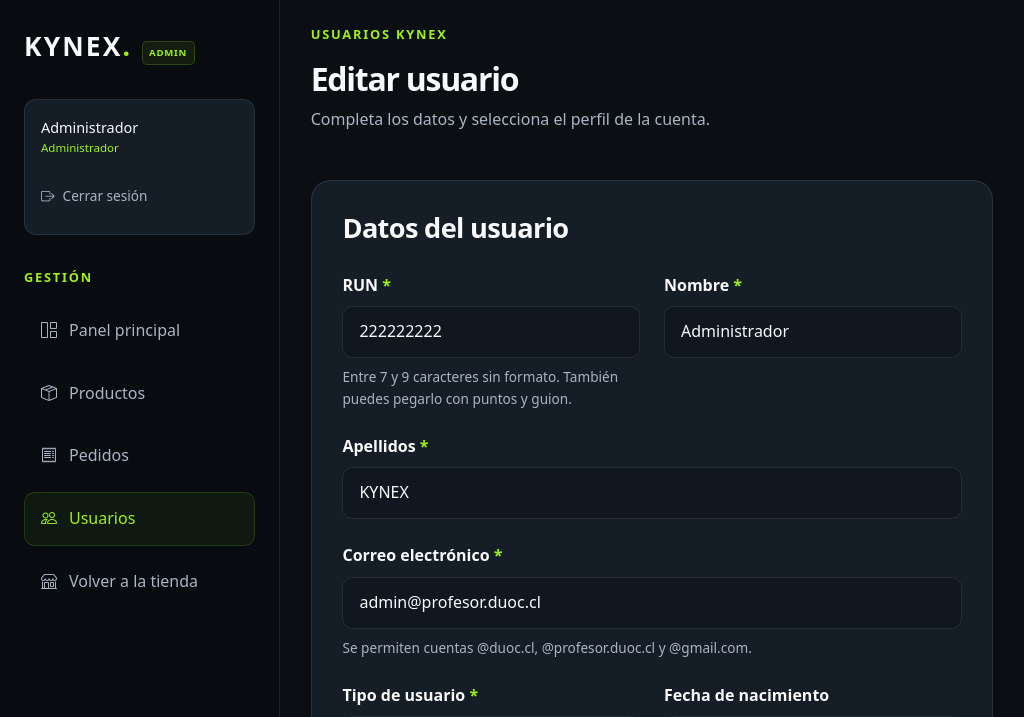
Test: Gestión de usuarios integrada › actualiza el perfil conectado al modificar su correo
Replace the text in the field labelled "Correo electrónico" with "admin.actualizado@duoc.cl" at {"x": 652, "y": 603}, box left=342, top=577, right=962, bottom=629
(page scrolled)
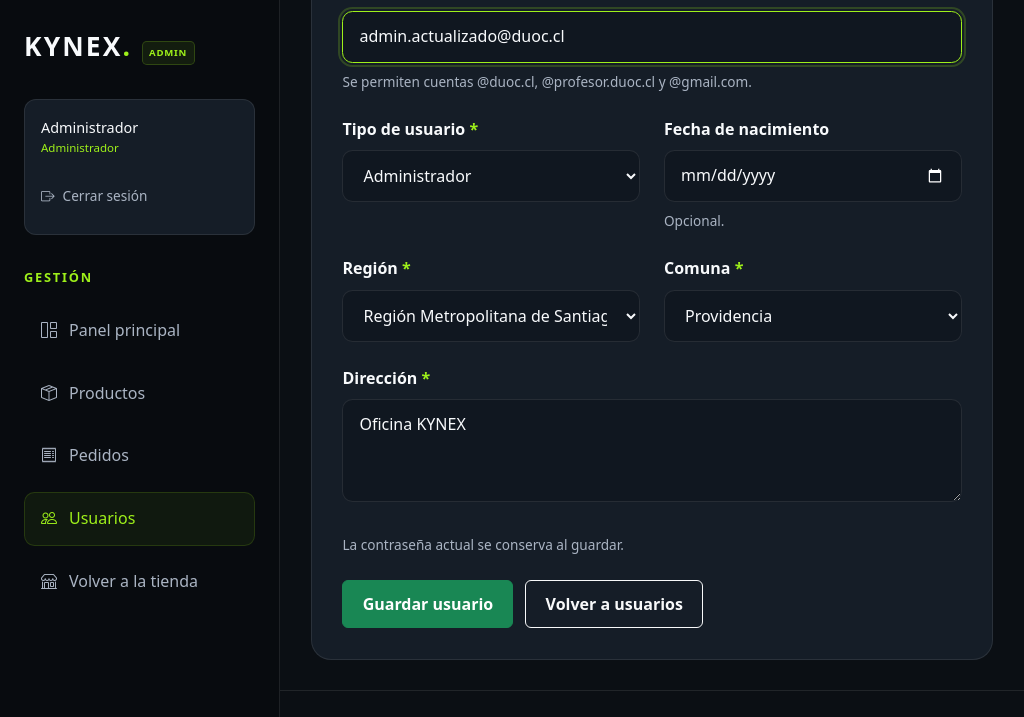
Click the button "Guardar usuario".
click(428, 604)  # box left=342, top=580, right=513, bottom=628
(page scrolled)
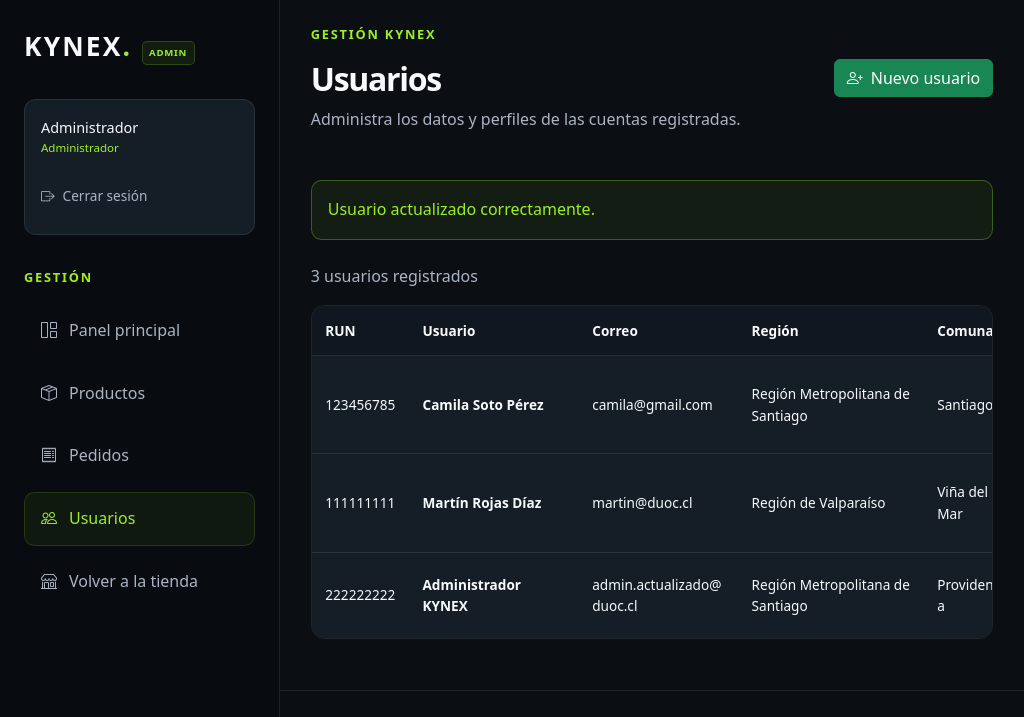
Expected: the button "Cerrar sesión" is shown, left=41, top=174, right=147, bottom=218
Expected: the heading "Usuarios" is shown, left=311, top=57, right=441, bottom=100
